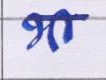i_matra: (57, 9, 71, 42)
